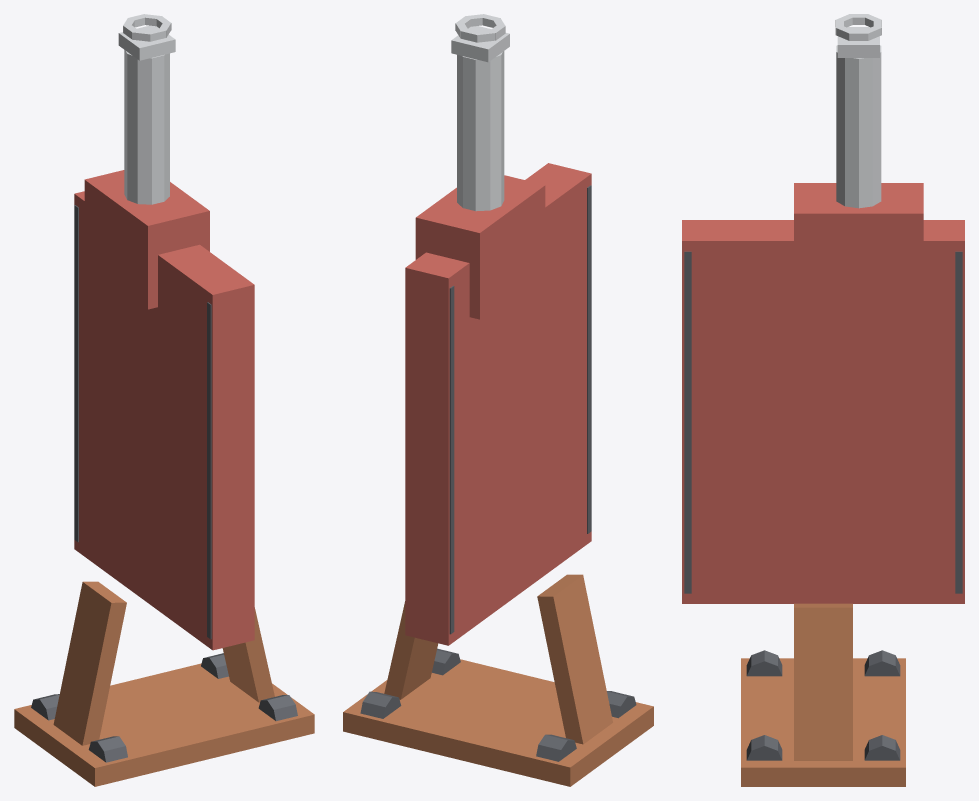
File: shipyard-and-dry-dock-shipyard-and-dry-dock-rudder-and-7fe7b595__37925.glb
3 renders of one model, left to right at view 1: azimuth 30°, elevation 25°; view 2: azimuth 150°, elevation 25°; view 3: azimuth 270°, elevation 25°, orthographic. The views are drawn at different scales.
Visible parts, largest first — view 1: shipyard-and-dry-dock-rudder-and-stock; view 2: shipyard-and-dry-dock-rudder-and-stock; view 3: shipyard-and-dry-dock-rudder-and-stock.
Boxes of the visible parts, box(x1,y1,x2,y2) form: shipyard-and-dry-dock-rudder-and-stock: box(14, 14, 314, 786); shipyard-and-dry-dock-rudder-and-stock: box(343, 14, 653, 786); shipyard-and-dry-dock-rudder-and-stock: box(682, 14, 964, 786).
Size of the model in its own units: 2.2 by 6.64 by 2.4.
